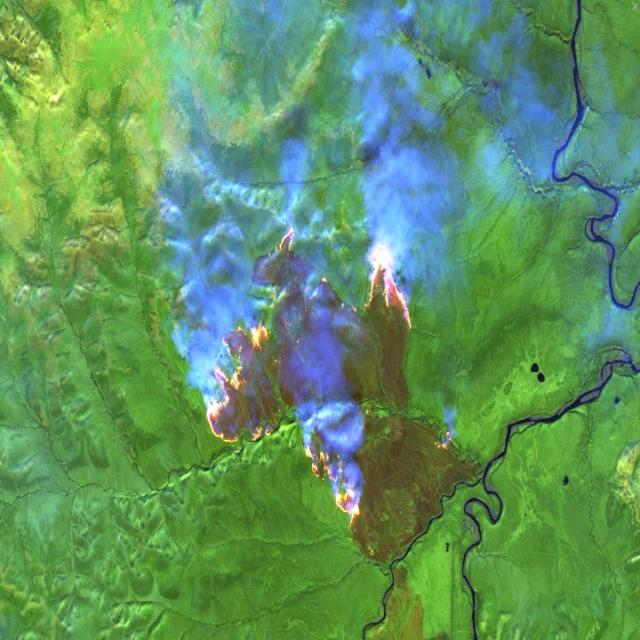fire: (194, 220, 459, 532)
